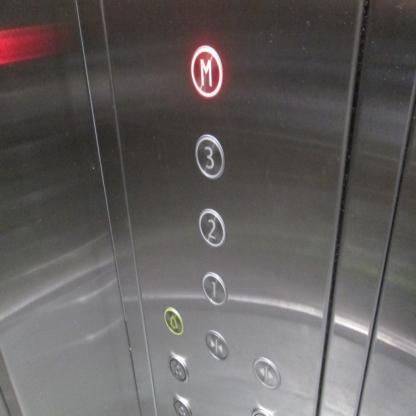1: (200, 269, 227, 306)
2: (197, 204, 226, 248)
3: (193, 130, 225, 180)
M: (188, 41, 224, 100)
alarm: (161, 304, 184, 335)
close: (204, 326, 228, 362)
keyhole: (166, 350, 189, 385)
open: (250, 353, 282, 391)
